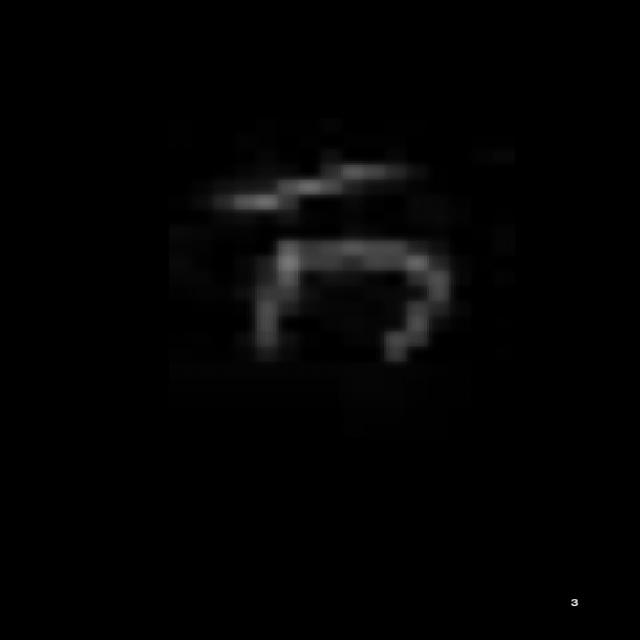10000 -a ten thousand-: (191, 146, 464, 374)
